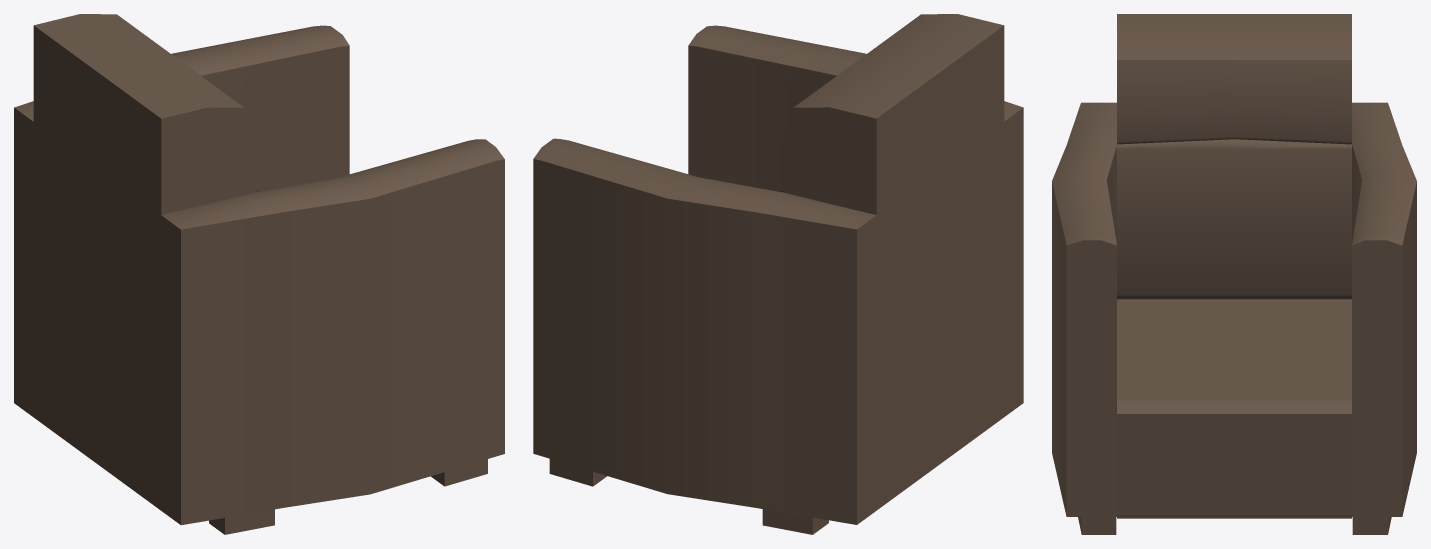
File: prop export - armchair 1.fbx
The picture shows the model from 3 angles, left to right: view 1: azimuth 30°, elevation 25°; view 2: azimuth 150°, elevation 25°; view 3: azimuth 270°, elevation 25°; orthographic projection. The views are drawn at different scales.
Visible parts, largest first — view 1: lounge_chair; view 2: lounge_chair; view 3: lounge_chair.
Part boxes in pixels (x1=…): lounge_chair: x1=14, y1=14, x2=504, y2=534; lounge_chair: x1=533, y1=14, x2=1023, y2=534; lounge_chair: x1=1052, y1=14, x2=1416, y2=534.
Size of the model in its own units: 66.97 by 80 by 69.11.
